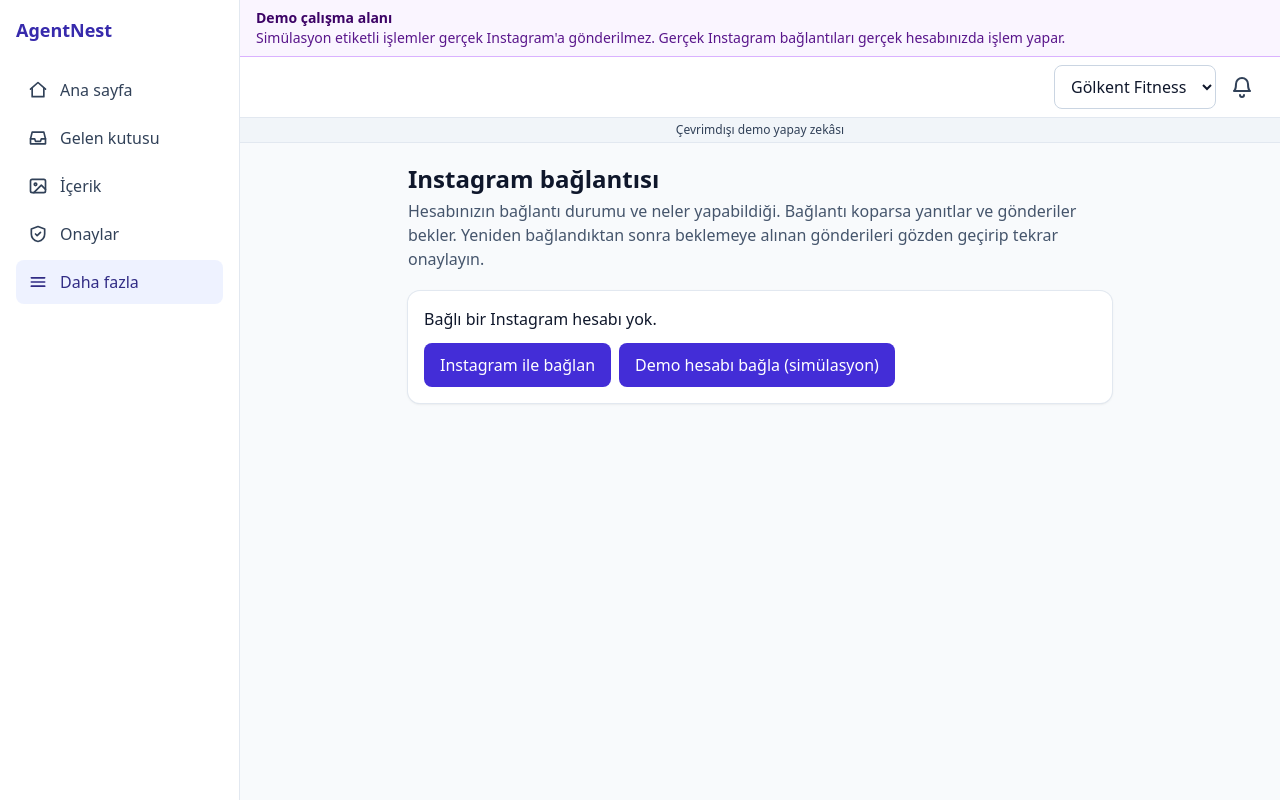
Test case: Instagram authorization › redirects once for Meta connect/reconnect (false)
The width and height of the screenshot is (1280, 800).
Double-click the button "Instagram ile bağlan" at (518, 365), box [424,343,611,387]
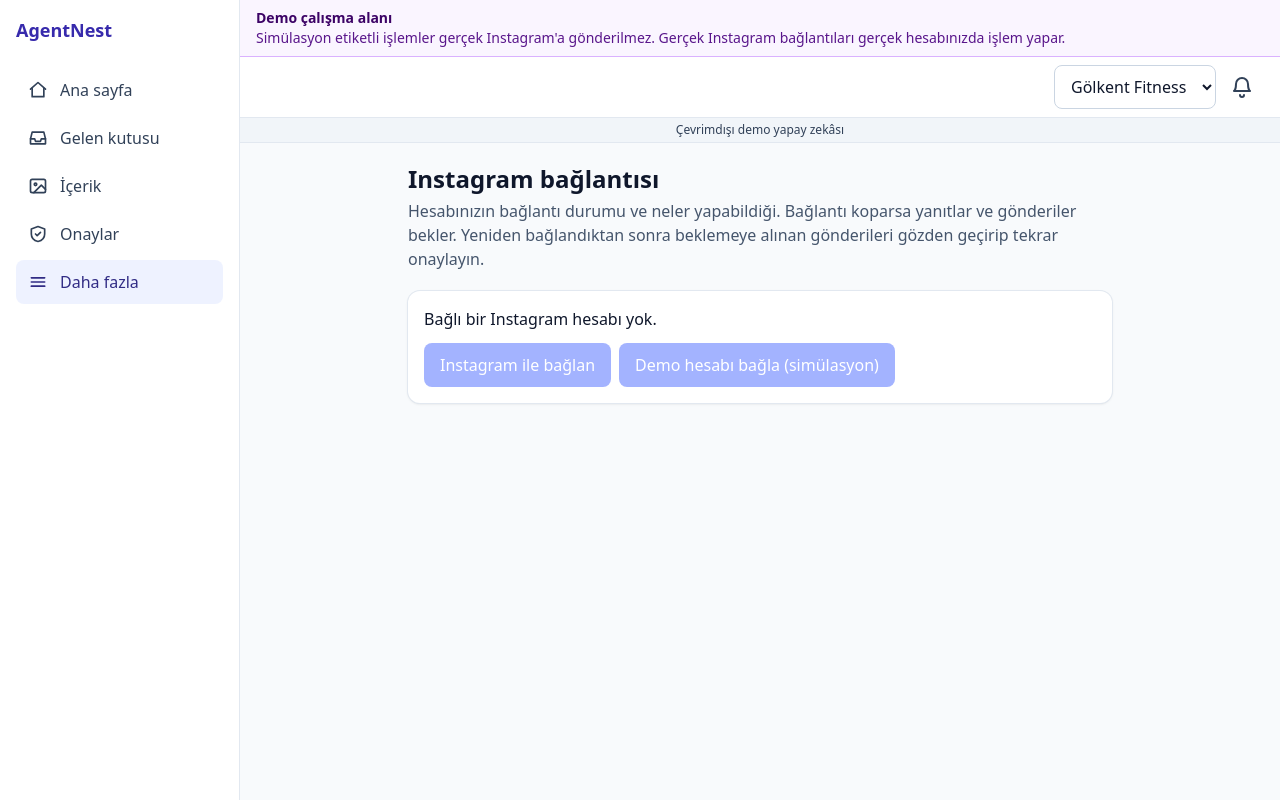
Check: the button "Instagram ile bağlan" is disabled, box [424,343,611,387]
